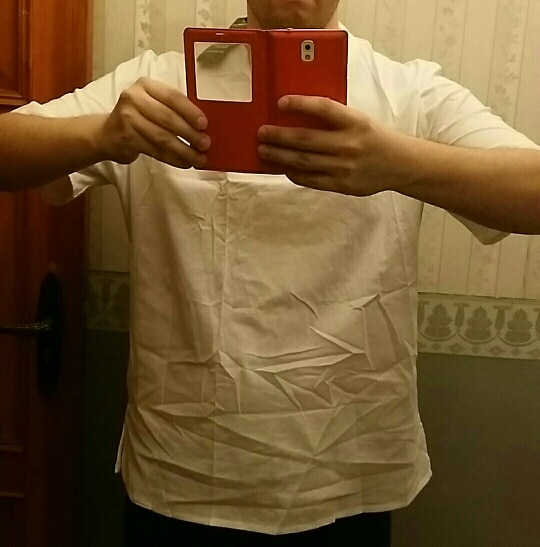shirts: (27, 28, 532, 513)
